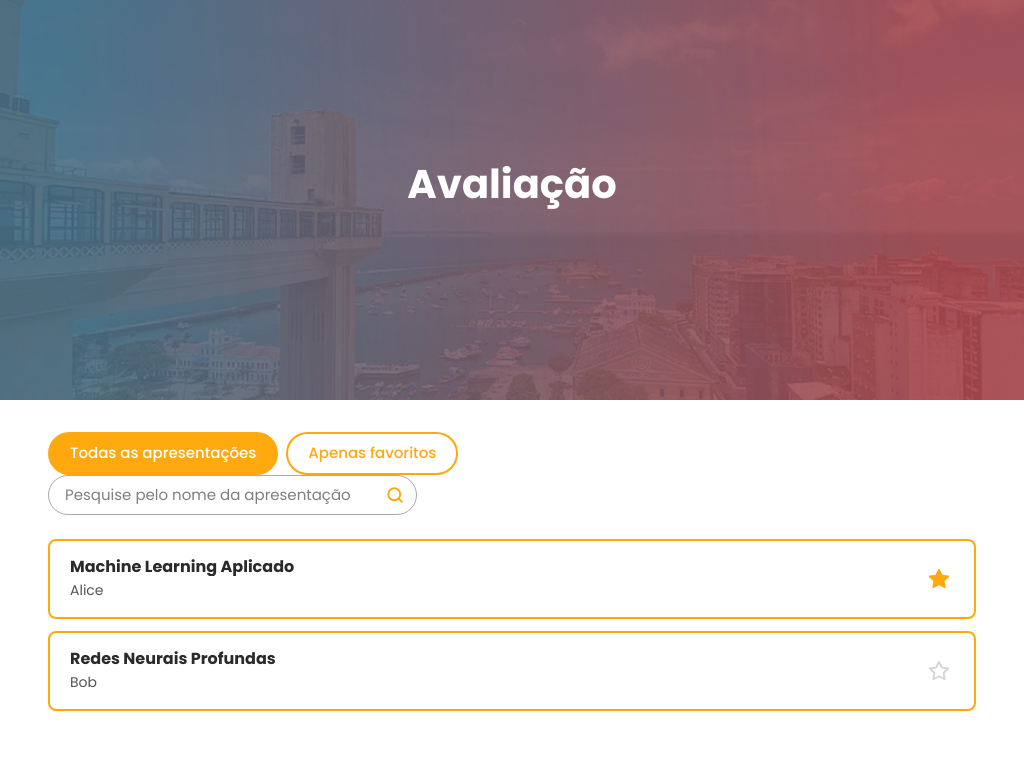
Test: AvaliacaoListagemPage › search composes with favorites tab filter
Expected: the heading "Machine Learning Aplicado" is shown, [70,555,294,578]
Click the tab "Apenas favoritos" at (372, 453), box [286,432,458,474]
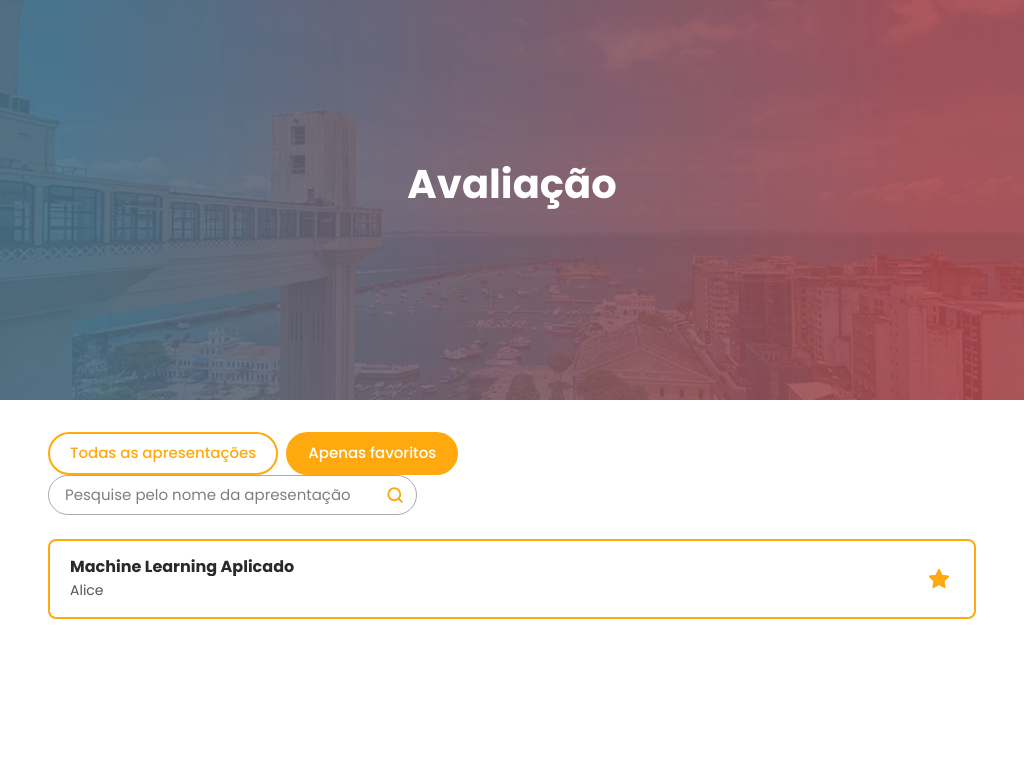
Type "inexistente" into the field with placeholder "Pesquise pelo nome da apresentação" at (212, 495), box [49,476,374,514]
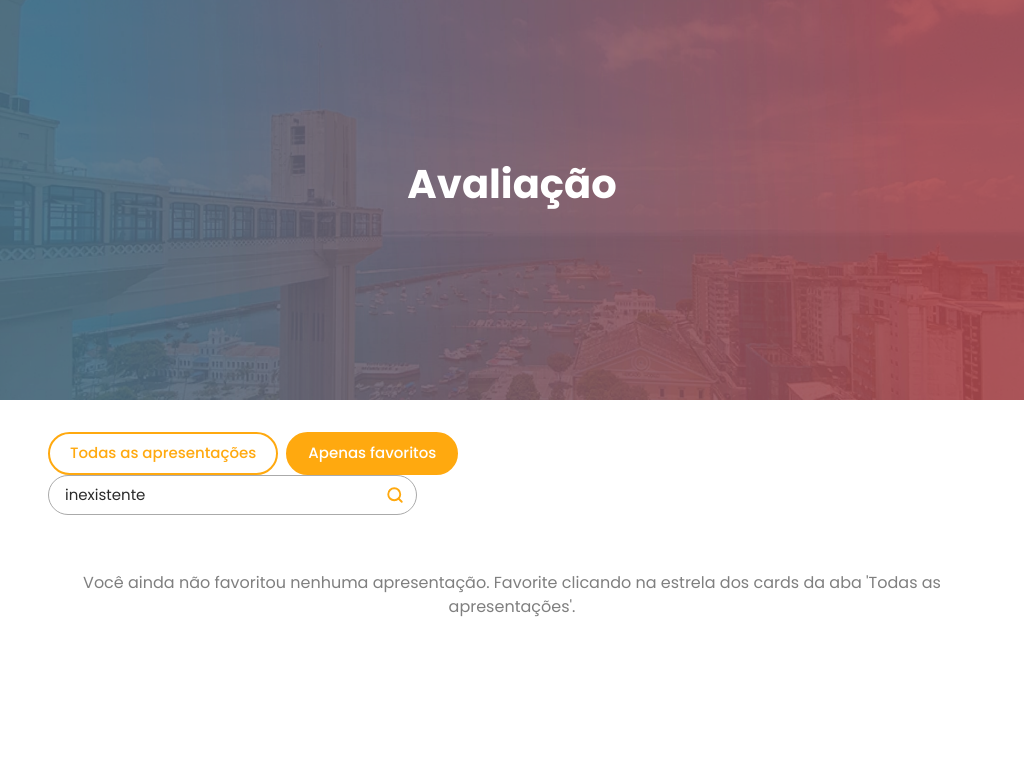
Expected: the text "Você ainda não favoritou nenhuma apresentação" is shown, [83,571,941,618]
